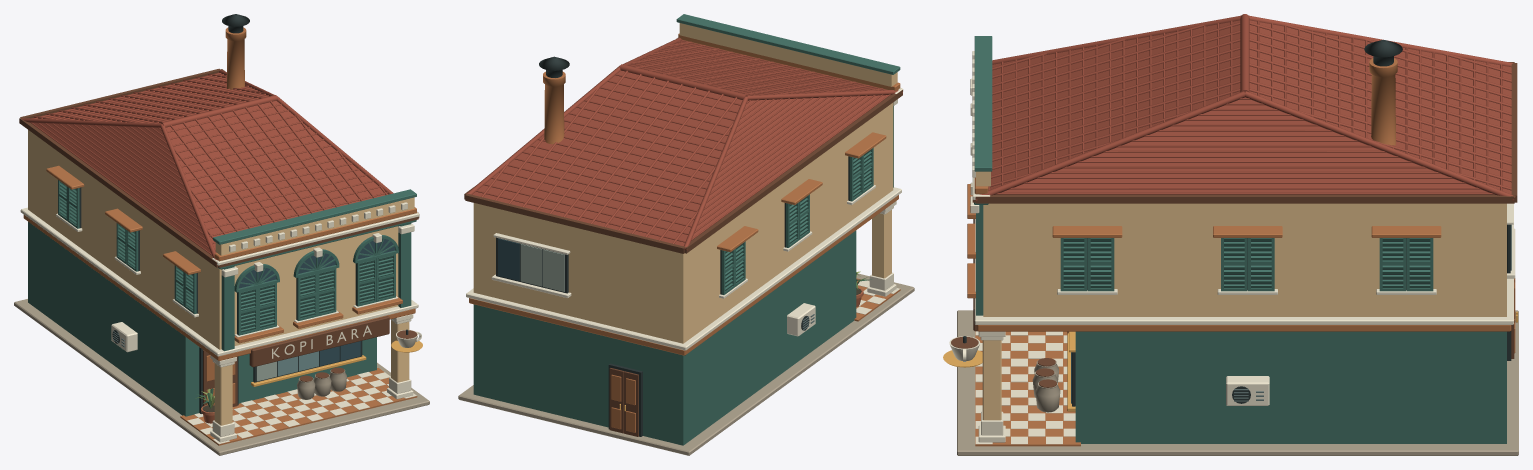
3 renders of one model, left to right at view 1: azimuth 30°, elevation 25°; view 2: azimuth 150°, elevation 25°; view 3: azimuth 270°, elevation 25°, orthographic. The views are drawn at different scales.
Visible parts, largest first — view 1: Limewash and ashlar, Roof covering, Cornices and pilasters, Louvred shutters, Five foot way mosaic, Eave fascia, Arcaded walkway, Radial fanlights, Casements and sills, Roasting flue, Jute coffee sacks, Entrance joinery (+2 smaller); view 2: Limewash and ashlar, Roof covering, Cornices and pilasters, Eave fascia, Casements and sills, Louvred shutters, Entrance joinery, Arcaded walkway, Roasting flue, Service fittings, Five foot way mosaic; view 3: Limewash and ashlar, Roof covering, Cornices and pilasters, Louvred shutters, Five foot way mosaic, Eave fascia, Roasting flue, Arcaded walkway, Casements and sills, Service fittings, Jute coffee sacks, Enamel cup sign.
Boxes of the visible parts, x1,y1,x2,y2 form: Limewash and ashlar: (14, 130, 429, 455); Roof covering: (19, 69, 393, 264); Cornices and pilasters: (20, 165, 419, 367); Louvred shutters: (56, 180, 398, 337); Five foot way mosaic: (180, 368, 417, 445); Eave fascia: (19, 68, 419, 267); Arcaded walkway: (210, 314, 413, 442); Radial fanlights: (234, 235, 398, 292); Casements and sills: (251, 341, 366, 386); Roasting flue: (222, 14, 249, 89); Jute coffee sacks: (297, 367, 346, 399); Entrance joinery: (199, 347, 238, 413); Limewash and ashlar: (458, 102, 914, 455); Roof covering: (464, 37, 902, 250); Cornices and pilasters: (466, 14, 903, 355); Eave fascia: (464, 38, 902, 253); Casements and sills: (491, 233, 571, 298); Louvred shutters: (719, 148, 875, 298); Entrance joinery: (608, 363, 642, 436); Arcaded walkway: (867, 201, 896, 296); Roasting flue: (539, 56, 569, 144); Service fittings: (787, 303, 815, 336); Five foot way mosaic: (854, 278, 900, 321); Limewash and ashlar: (957, 203, 1518, 455); Roof covering: (975, 14, 1515, 200); Cornices and pilasters: (963, 36, 1513, 343); Louvred shutters: (975, 224, 1436, 294); Five foot way mosaic: (975, 331, 1080, 446); Eave fascia: (972, 62, 1517, 203); Roasting flue: (1364, 40, 1402, 145); Arcaded walkway: (978, 331, 1005, 442); Casements and sills: (1067, 203, 1515, 411); Service fittings: (1226, 376, 1269, 405); Jute coffee sacks: (1032, 358, 1060, 412); Enamel cup sign: (943, 336, 982, 367).
Bounding box in the file's own units: 8.63 × 10.87 × 14.55.
